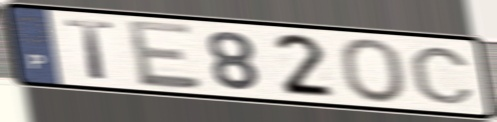2: (271, 32, 339, 101)
8: (206, 30, 264, 92)
C: (407, 44, 477, 106)
E: (123, 17, 205, 91)
O: (336, 36, 410, 105)
T: (62, 18, 118, 83)
